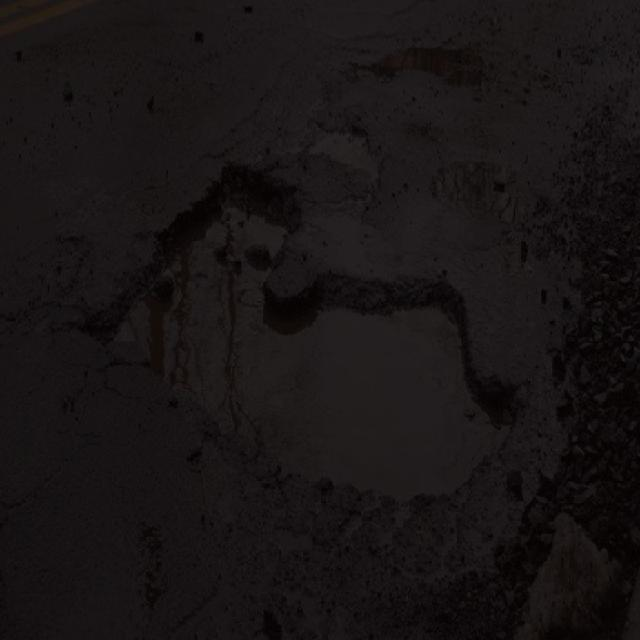Pothole: (85, 152, 525, 530), (348, 30, 510, 94), (302, 114, 415, 190)
